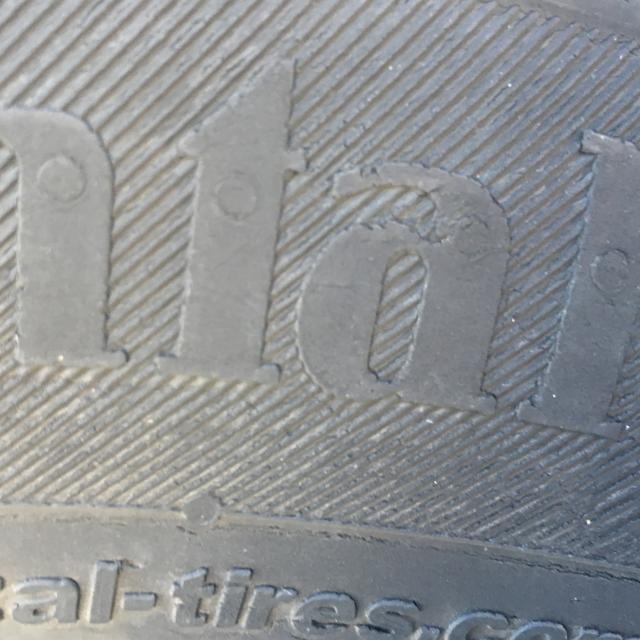Cracks: (169, 486, 640, 590), (84, 549, 149, 579)
